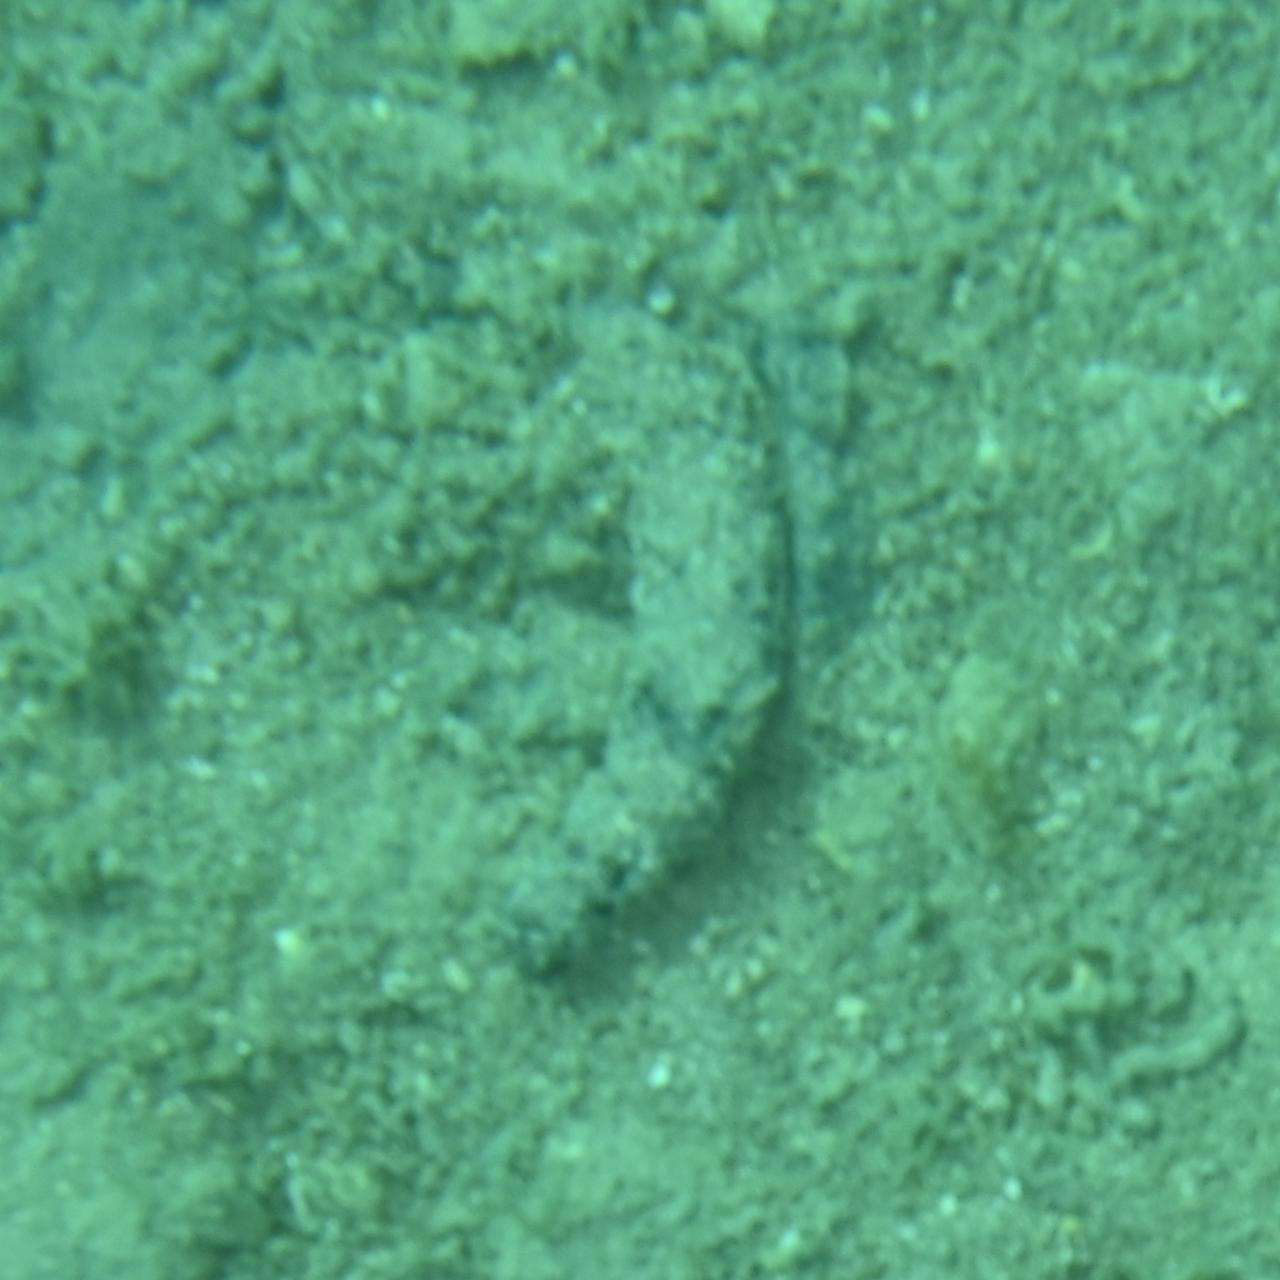Holothuria tubulosa: (463, 294, 817, 986)
